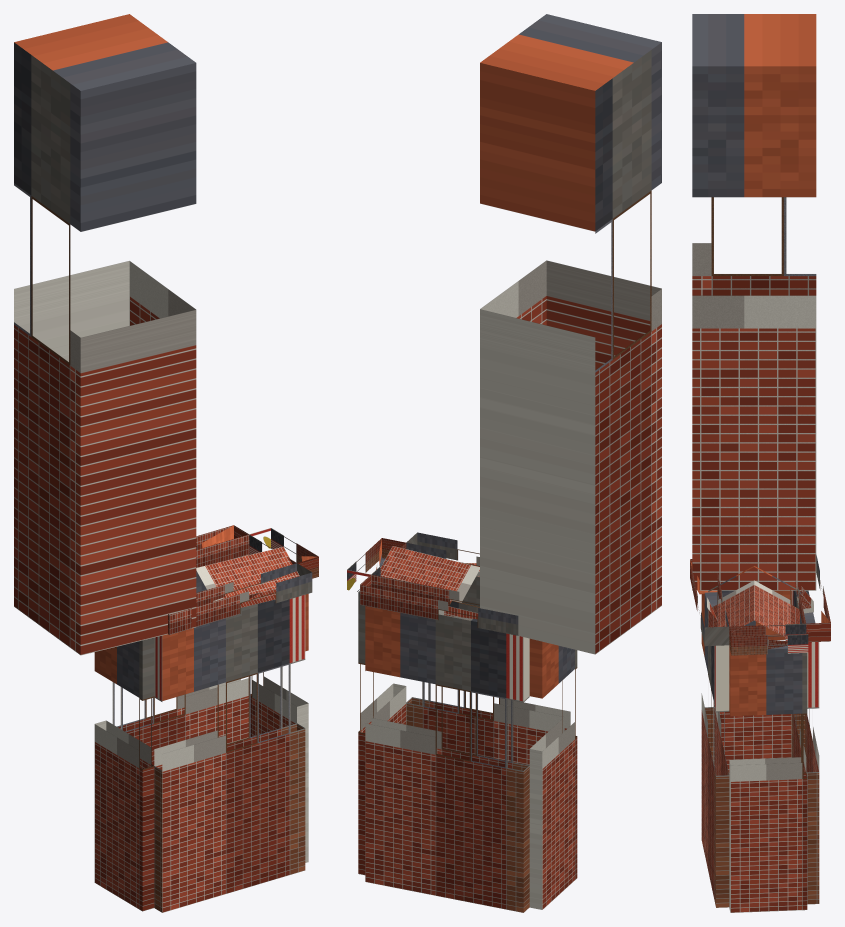
The picture shows the model from 3 angles, left to right: view 1: azimuth 30°, elevation 25°; view 2: azimuth 150°, elevation 25°; view 3: azimuth 270°, elevation 25°; orthographic projection. The views are drawn at different scales.
Visible parts, largest first — view 1: 1241125010__chimney_0_xb, 1241125010__wall_0_xb, 1241125010__wall_1_xb, 1241125010__wall_2_xb, 1241125010__cornice_0, 1241125010_roof_-1_xb, 1241125010__wall_3_xb, 1241125010__cornice_2, 1241125010__cornice_3; view 2: 1241125010__chimney_0_xb, 1241125010__wall_2_xb, 1241125010__wall_1_xb, 1241125010__wall_0_xb, 1241125010__cornice_2, 1241125010__wall_3_xb, 1241125010_roof_1_xb, 1241125010__cornice_0, 1241125010__cornice_3; view 3: 1241125010__chimney_0_xb, 1241125010__wall_3_xb, 1241125010__wall_0_xb, 1241125010__wall_2_xb, 1241125010__wall_1_xb, 1241125010__cornice_3, 1241125010_roof_1_xb, 1241125010_roof_-1_xb, 1241125010__cornice_2, 1241125010__cornice_0.
Boxes of the visible parts, x1,y1,x2,y2 form: 1241125010__chimney_0_xb: (14, 14, 196, 655); 1241125010__wall_0_xb: (154, 595, 305, 912); 1241125010__wall_1_xb: (94, 637, 154, 911); 1241125010__wall_2_xb: (112, 554, 248, 765); 1241125010__cornice_0: (168, 563, 312, 634); 1241125010_roof_-1_xb: (196, 546, 299, 607); 1241125010__wall_3_xb: (250, 594, 308, 862); 1241125010__cornice_2: (196, 525, 249, 567); 1241125010__cornice_3: (249, 528, 318, 578); 1241125010__chimney_0_xb: (480, 14, 661, 654); 1241125010__wall_2_xb: (365, 606, 529, 912); 1241125010__wall_1_xb: (529, 638, 577, 909); 1241125010__wall_0_xb: (406, 571, 570, 765); 1241125010__cornice_2: (360, 574, 518, 635); 1241125010__wall_3_xb: (358, 591, 406, 875); 1241125010_roof_1_xb: (380, 546, 479, 607); 1241125010__cornice_0: (406, 532, 479, 576); 1241125010__cornice_3: (347, 538, 406, 591); 1241125010__chimney_0_xb: (692, 14, 816, 590); 1241125010__wall_3_xb: (729, 645, 807, 912); 1241125010__wall_0_xb: (701, 590, 729, 907); 1241125010__wall_2_xb: (791, 590, 819, 904); 1241125010__wall_1_xb: (713, 590, 791, 774); 1241125010__cornice_3: (729, 623, 808, 655); 1241125010_roof_1_xb: (754, 566, 799, 638); 1241125010_roof_-1_xb: (708, 566, 754, 631); 1241125010__cornice_2: (795, 555, 830, 642); 1241125010__cornice_0: (690, 559, 729, 646).
Size of the model in its own units: 0.3365 by 1.05 by 0.1705.
Materials: 1 (1 with a texture image).
